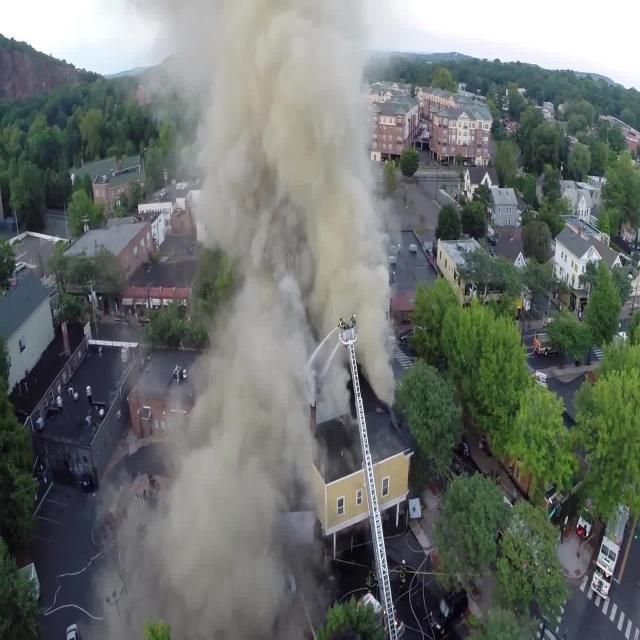smoke: (156, 0, 390, 330), (126, 336, 315, 640)
